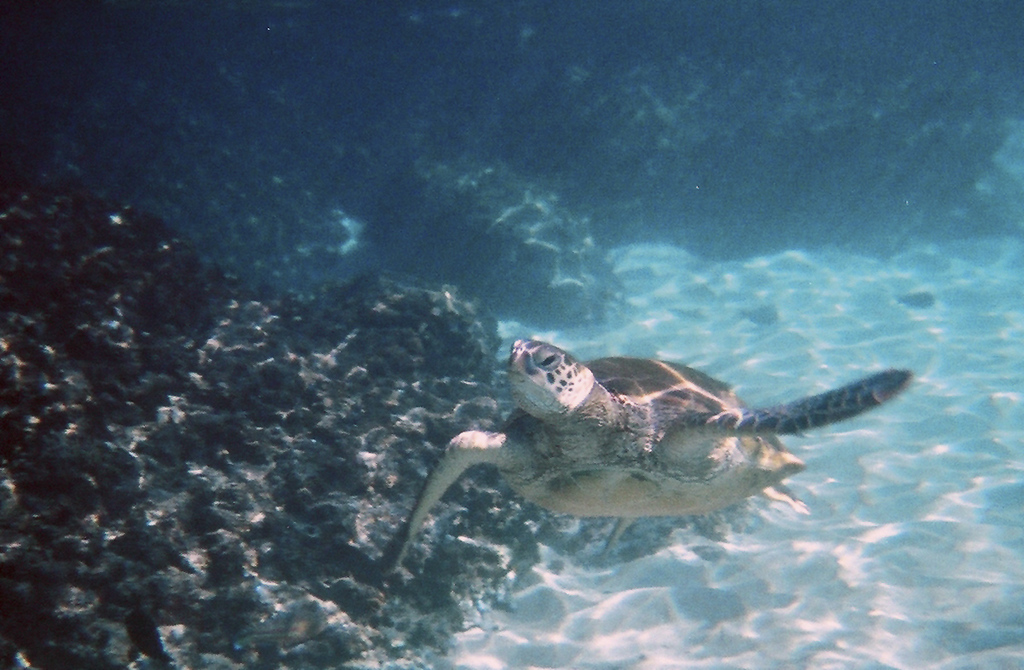Sea turtles: (372, 332, 915, 583)
